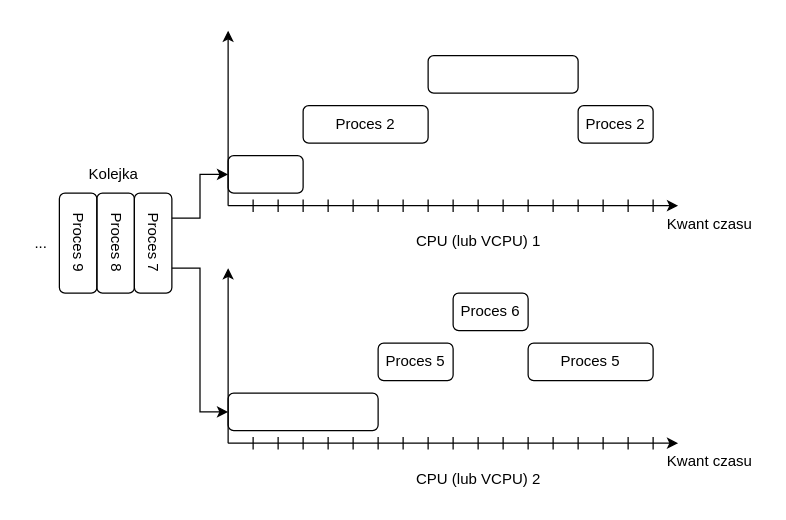
This 786x520 diagram has some shape labels left out. The shapes that lost their labels are listed below. From the top down, each one's box as (x1, y1, x2, y2) in pixels, then its label:
(427, 54, 578, 93): Proces 3
(227, 154, 303, 193): Proces 1
(227, 392, 378, 431): Proces 4
